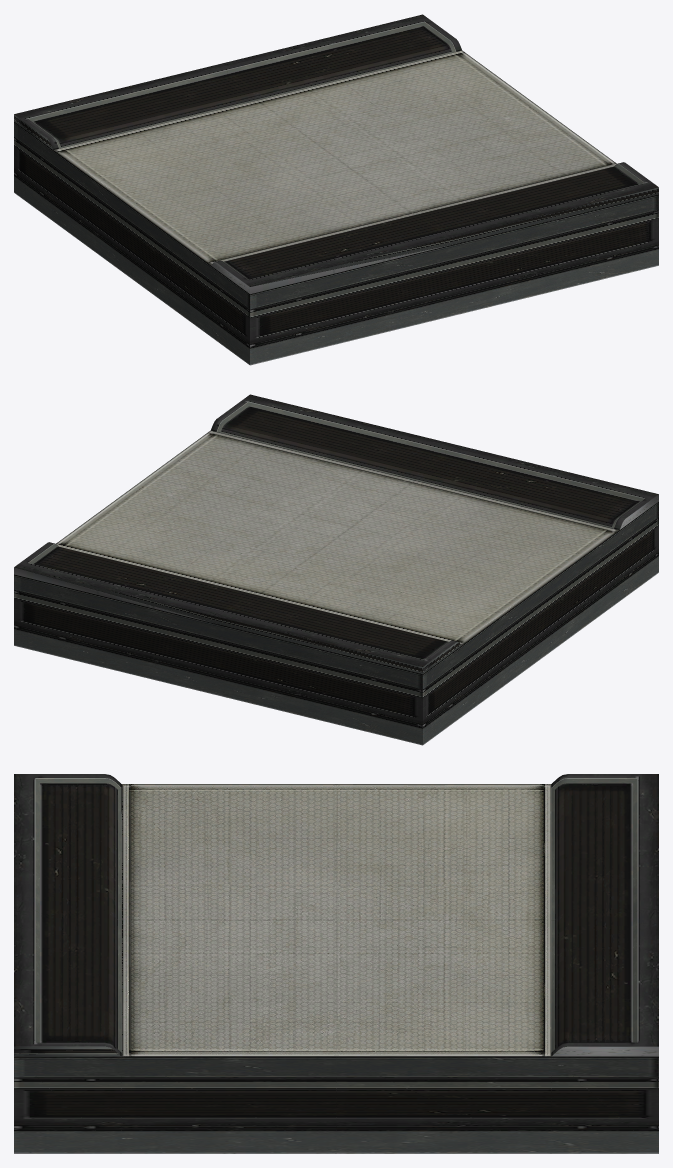
Rendered from Spctr_FloorStraight_01.FBX.
3 renders of one model, top to bottom at view 1: azimuth 30°, elevation 25°; view 2: azimuth 150°, elevation 25°; view 3: azimuth 270°, elevation 25°, orthographic. The views are drawn at different scales.
Parts seen in each view (by area): view 1: Spctr_FloorStraight_01; view 2: Spctr_FloorStraight_01; view 3: Spctr_FloorStraight_01.
Boxes of the visible parts, bbox=[...] form: Spctr_FloorStraight_01: bbox=[14, 14, 658, 365]; Spctr_FloorStraight_01: bbox=[14, 394, 658, 745]; Spctr_FloorStraight_01: bbox=[14, 774, 658, 1153].
Bounding box in the file's own units: 6 × 1.1 × 6.
